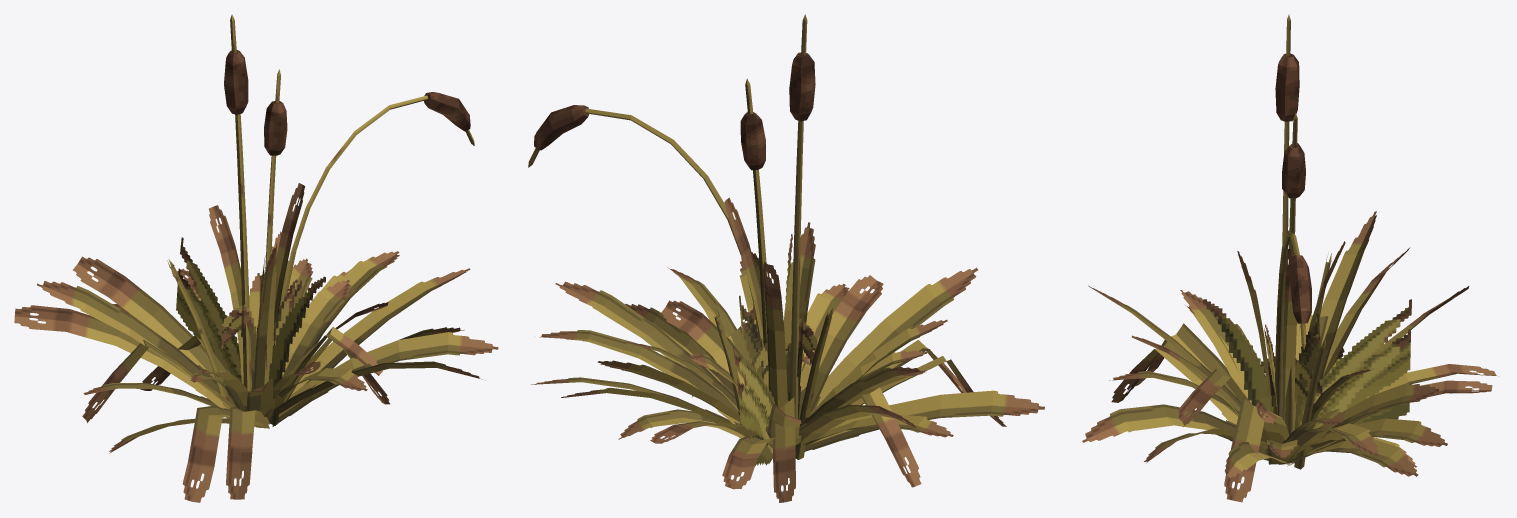
The model's file is SM_SW02_CattailWideArch.fbx.
3 views of the same model, side by side, from view 1: azimuth 30°, elevation 25°; view 2: azimuth 150°, elevation 25°; view 3: azimuth 270°, elevation 25° (orthographic). The views are drawn at different scales.
Visible parts, largest first — view 1: SW02c_Plants, SW02c_Props; view 2: SW02c_Plants, SW02c_Props; view 3: SW02c_Plants, SW02c_Props.
Boxes of the visible parts, x1,y1,x2,y2 form: SW02c_Plants: (14, 14, 498, 502); SW02c_Props: (224, 50, 470, 155); SW02c_Plants: (528, 14, 1044, 502); SW02c_Props: (534, 52, 815, 170); SW02c_Plants: (1082, 14, 1498, 502); SW02c_Props: (1275, 53, 1311, 323).
Bounding box in the file's own units: 1.94 × 1.79 × 1.6.
